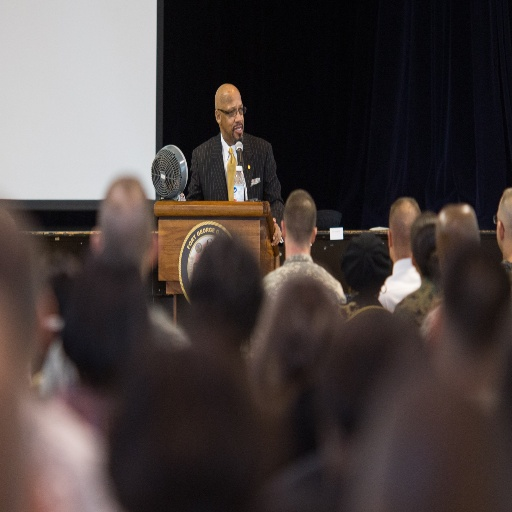hand: (271, 216, 281, 247)
